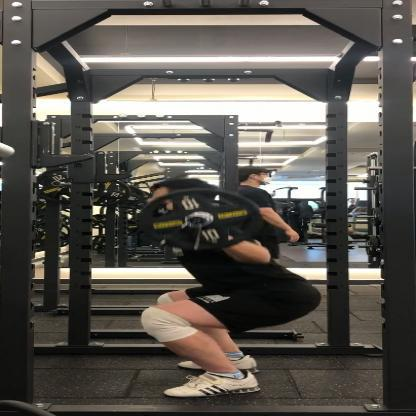Barbell: (182, 212, 216, 228)
